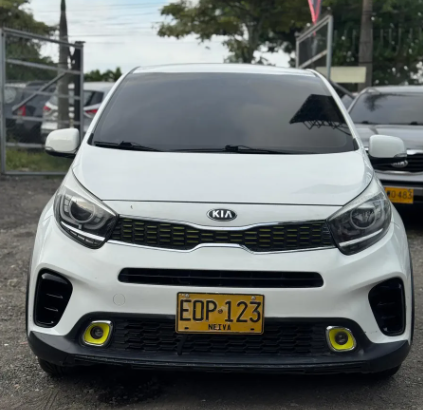placa: (177, 292, 264, 335)
